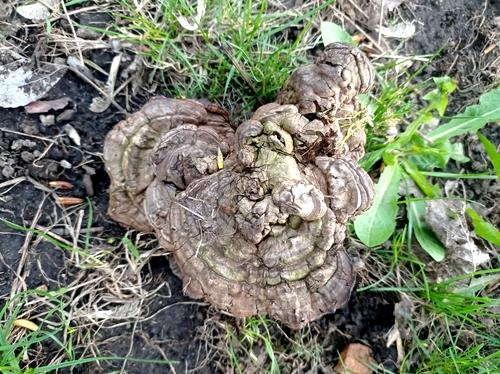Ganoderma - Fruit Body: (92, 89, 378, 329)
